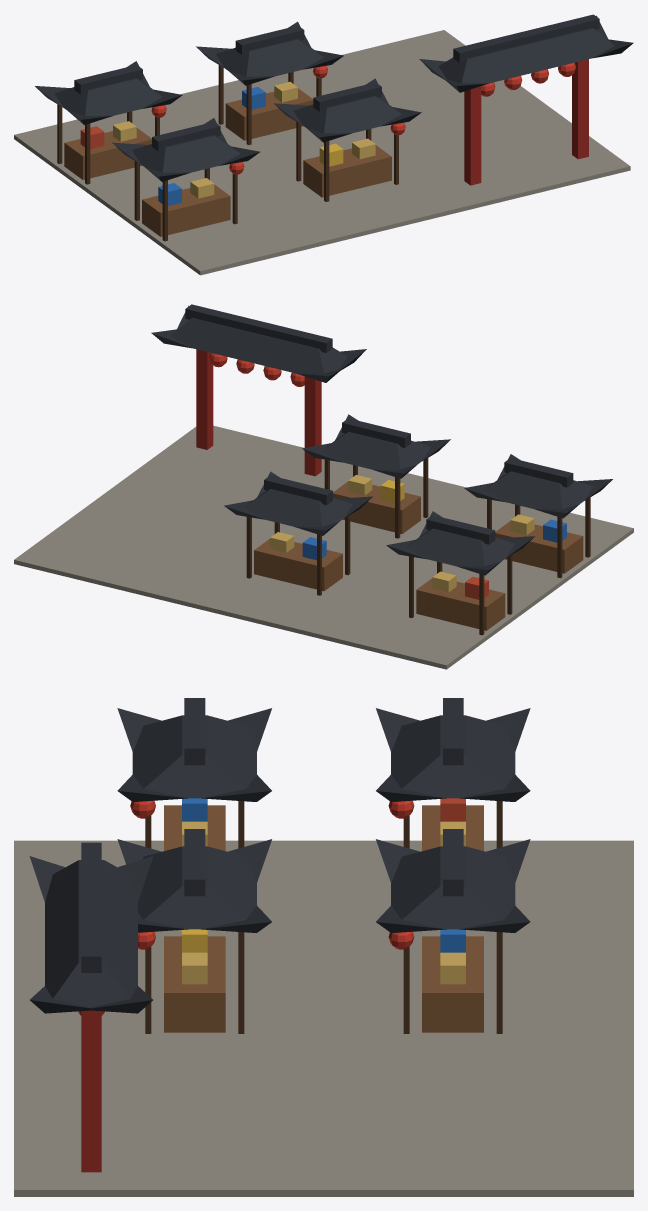
The model's file is market.glb.
3 renders of one model, top to bottom at view 1: azimuth 30°, elevation 25°; view 2: azimuth 150°, elevation 25°; view 3: azimuth 270°, elevation 25°, orthographic. The views are drawn at different scales.
Visible parts, largest first — view 1: Market; view 2: Market; view 3: Market.
Boxes of the visible parts, x1,y1,x2,y2 form: Market: (14, 14, 633, 275); Market: (14, 304, 633, 669); Market: (14, 698, 633, 1196).
Size of the model in its own units: 16.7 by 4.96 by 12.
